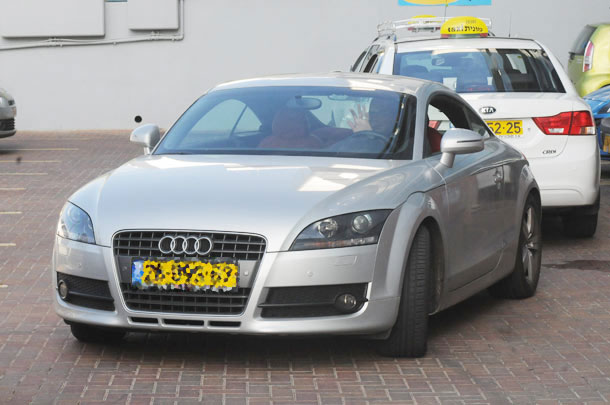licence: (130, 257, 238, 293)
